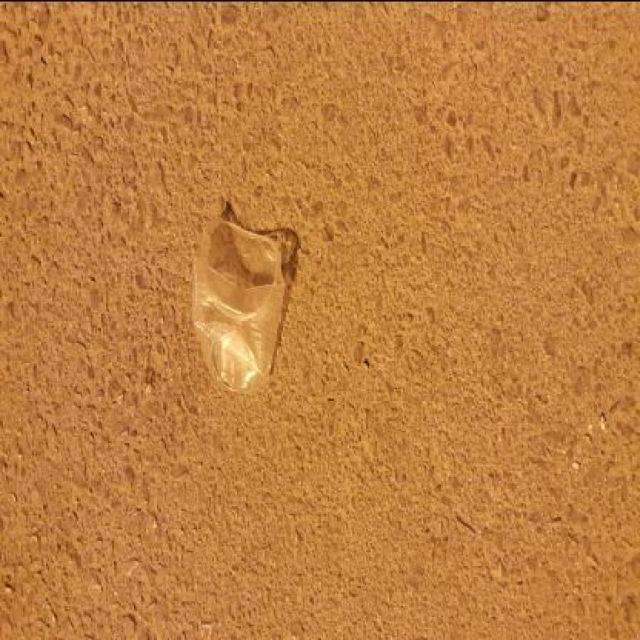plastic: (248, 190, 429, 288)
